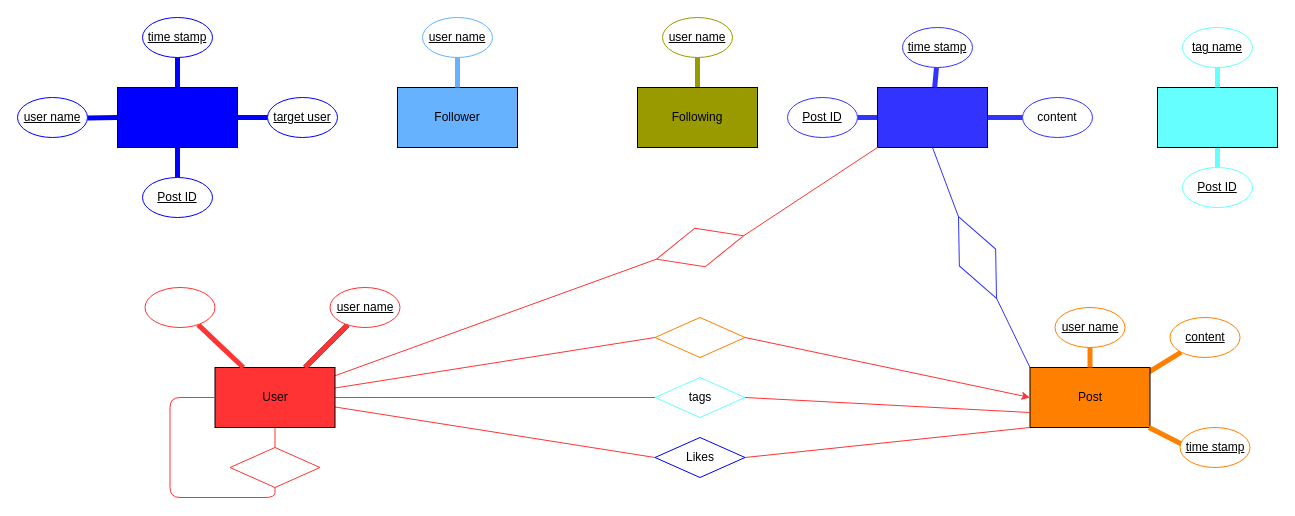
Image size: 1295x516. Some labels were removed from this diagram. The box of each missing label's shape, as (x1, y1, x2, y2) in pixels:
Comment: (876, 86, 988, 148)
Comments: (650, 215, 749, 279)
Discusses: (939, 207, 1015, 307)
Follows: (229, 446, 320, 488)
Like: (116, 86, 238, 148)
password: (144, 286, 215, 328)
Posts: (654, 316, 745, 358)
Tag: (1156, 86, 1278, 148)
